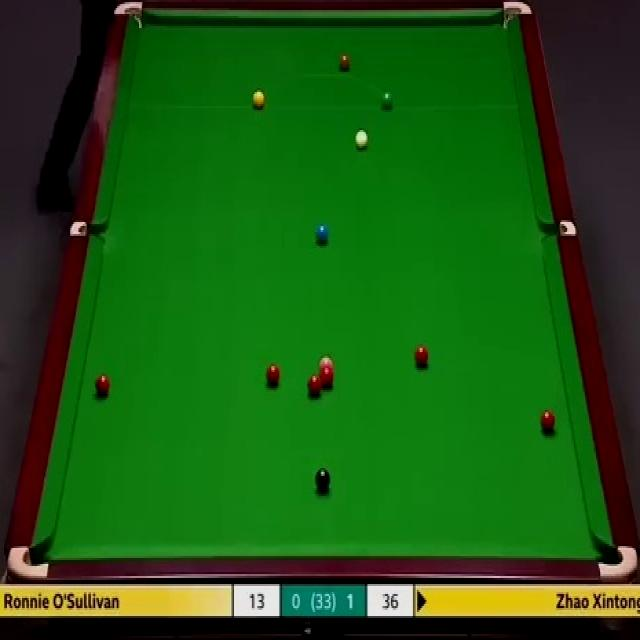black-ball: (314, 468, 331, 492)
blue-ball: (315, 224, 332, 245)
brown-ball: (336, 53, 352, 73)
green-ball: (380, 89, 393, 110)
pink-ball: (318, 356, 331, 376)
red-ball: (539, 408, 555, 435), (93, 376, 110, 398), (308, 374, 321, 398), (414, 345, 428, 367), (320, 370, 333, 392), (266, 366, 280, 386)
white-ball: (355, 129, 369, 149)
yellow-ball: (253, 90, 265, 110)
